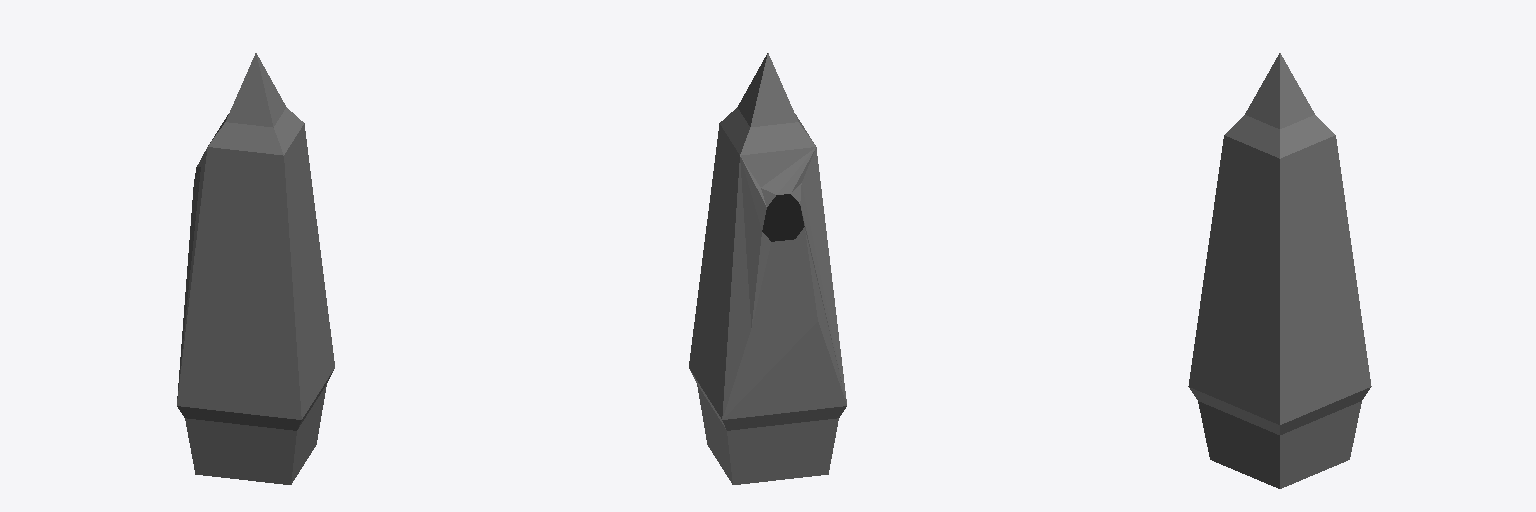
The model's file is Monolith.obj.
The picture shows the model from 3 angles: view 1: azimuth 30°, elevation 25°; view 2: azimuth 150°, elevation 25°; view 3: azimuth 270°, elevation 25°; orthographic projection.
Parts seen in each view (by area): view 1: pCone1; view 2: pCone1; view 3: pCone1.
Boxes of the visible parts, x1,y1,x2,y2 form: pCone1: [177, 53, 334, 484]; pCone1: [689, 53, 846, 484]; pCone1: [1188, 53, 1371, 488].
Size of the model in its own units: 11.23 by 27.58 by 11.23.